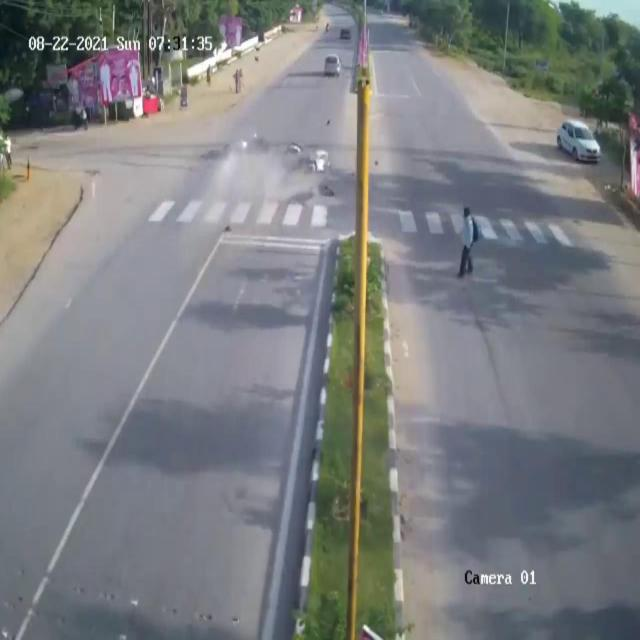accident: (225, 125, 343, 196)
